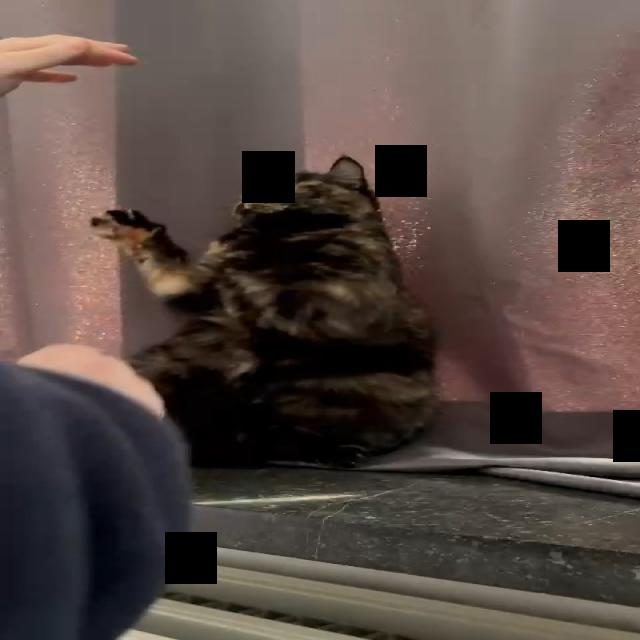authorized: (88, 154, 441, 469)
